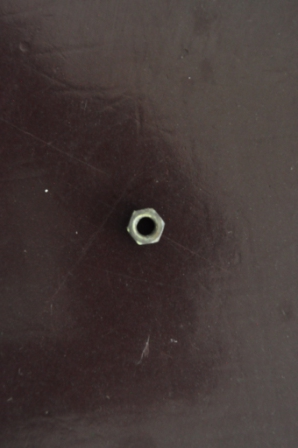BOLT: (126, 208, 167, 246)
